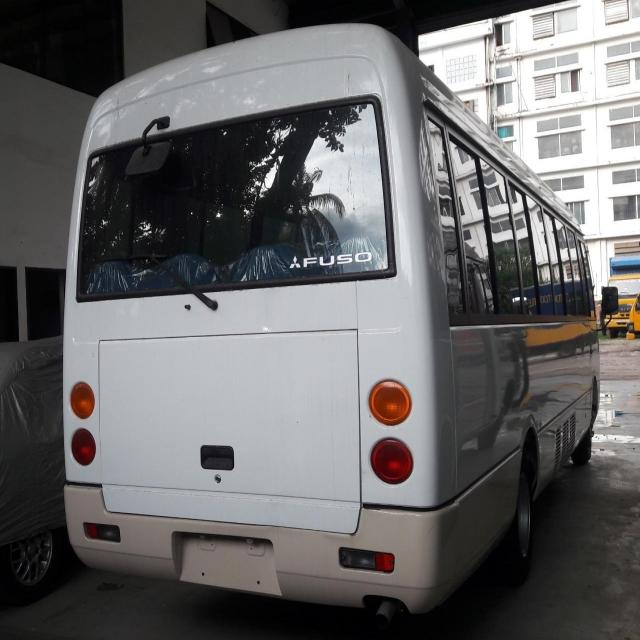bus: (30, 13, 640, 640)
